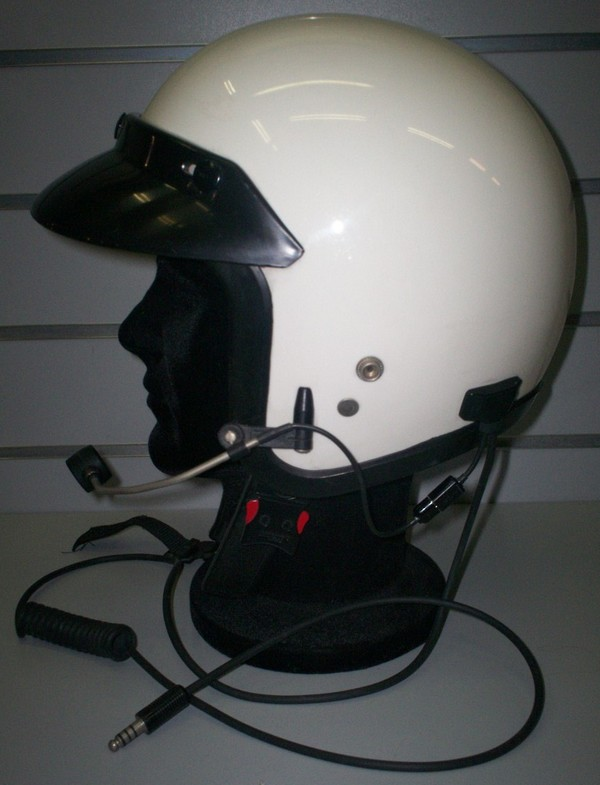helmet: (125, 10, 579, 264)
